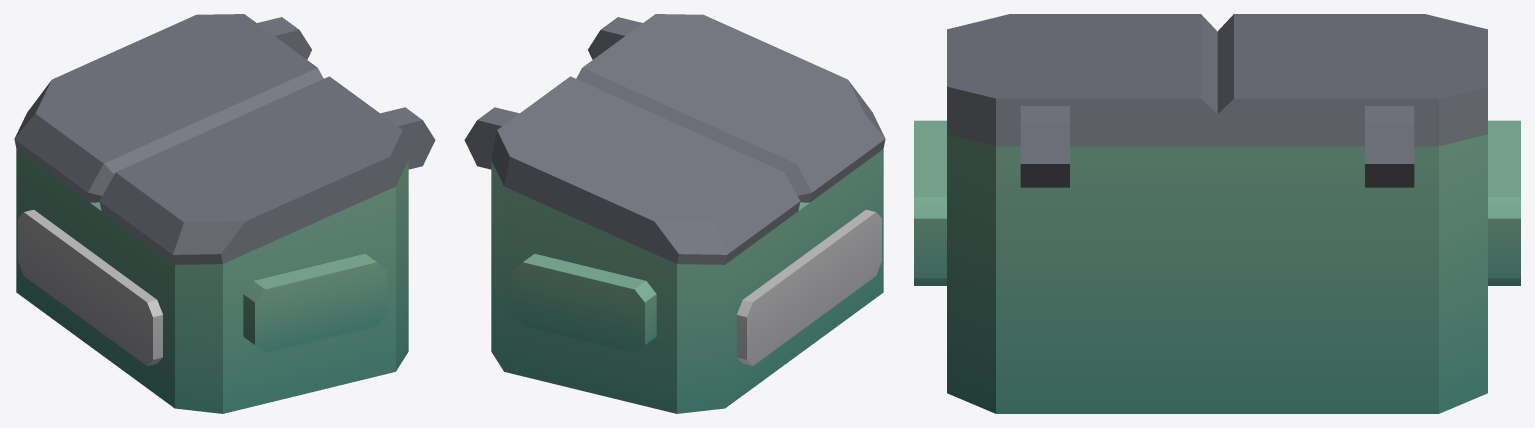
The model's file is dumpster.glb.
3 views of the same model, side by side, from view 1: azimuth 30°, elevation 25°; view 2: azimuth 150°, elevation 25°; view 3: azimuth 270°, elevation 25° (orthographic). The views are drawn at different scales.
Parts seen in each view (by area): view 1: dumpster; view 2: dumpster; view 3: dumpster.
Part boxes in pixels (x1,y1,x2,y2): dumpster: (14,14,435,413); dumpster: (464,14,885,413); dumpster: (914,14,1520,413).
Size of the model in its own units: 0.275 by 0.2094 by 0.37.
